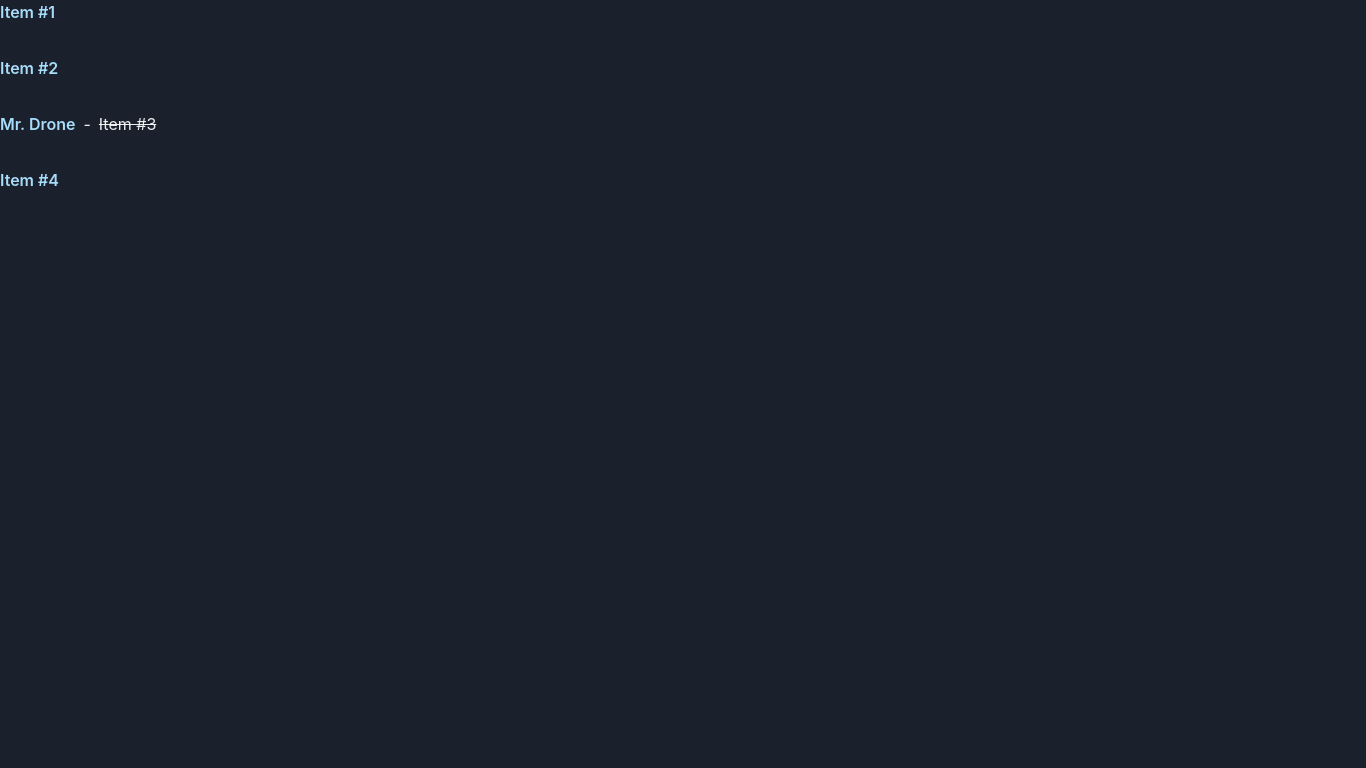
Test: modules - gifts - <List /> › should open modal to modify the item when click on an item from list without an assigner
Click the button "Item #1": (28, 12) x1=0 y1=2 x2=55 y2=22
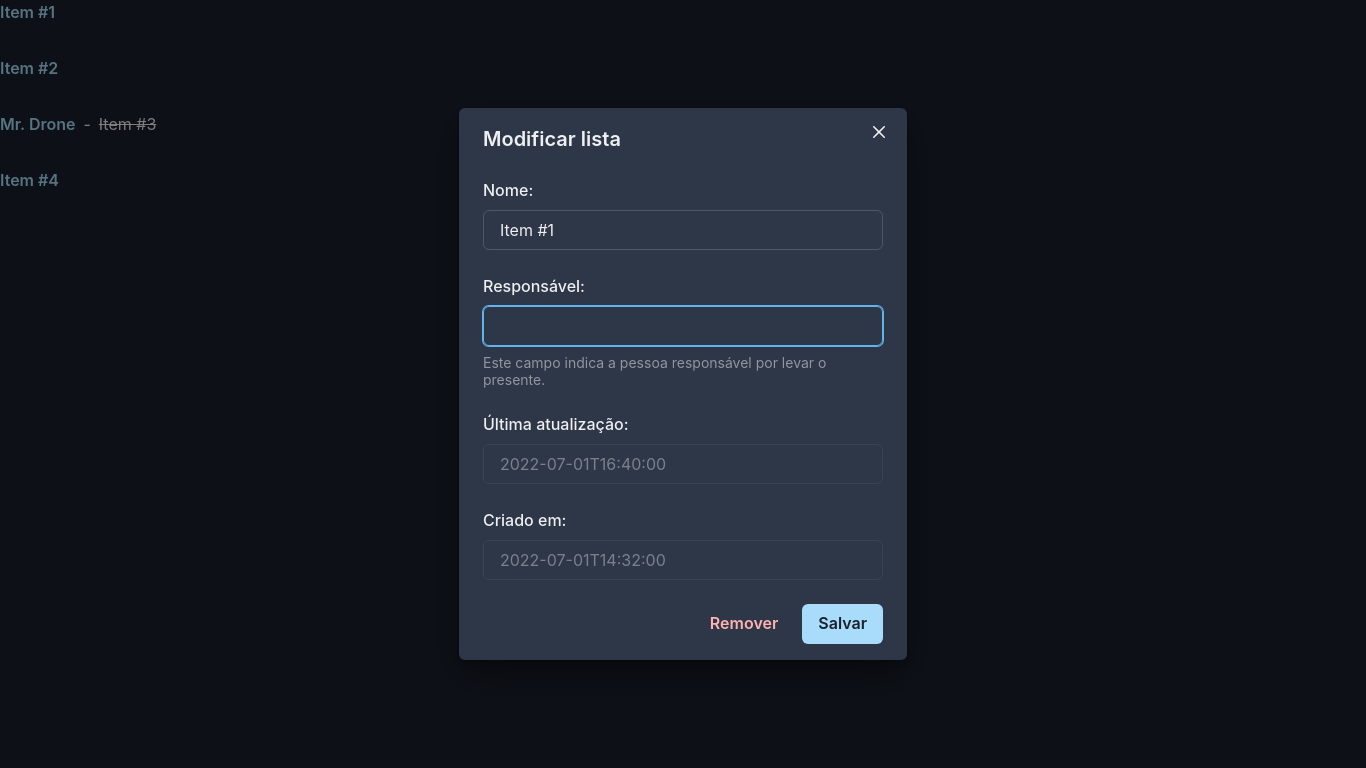
Expected: the field labelled "Nome:" holds "Item #1", x1=483 y1=210 x2=883 y2=250
